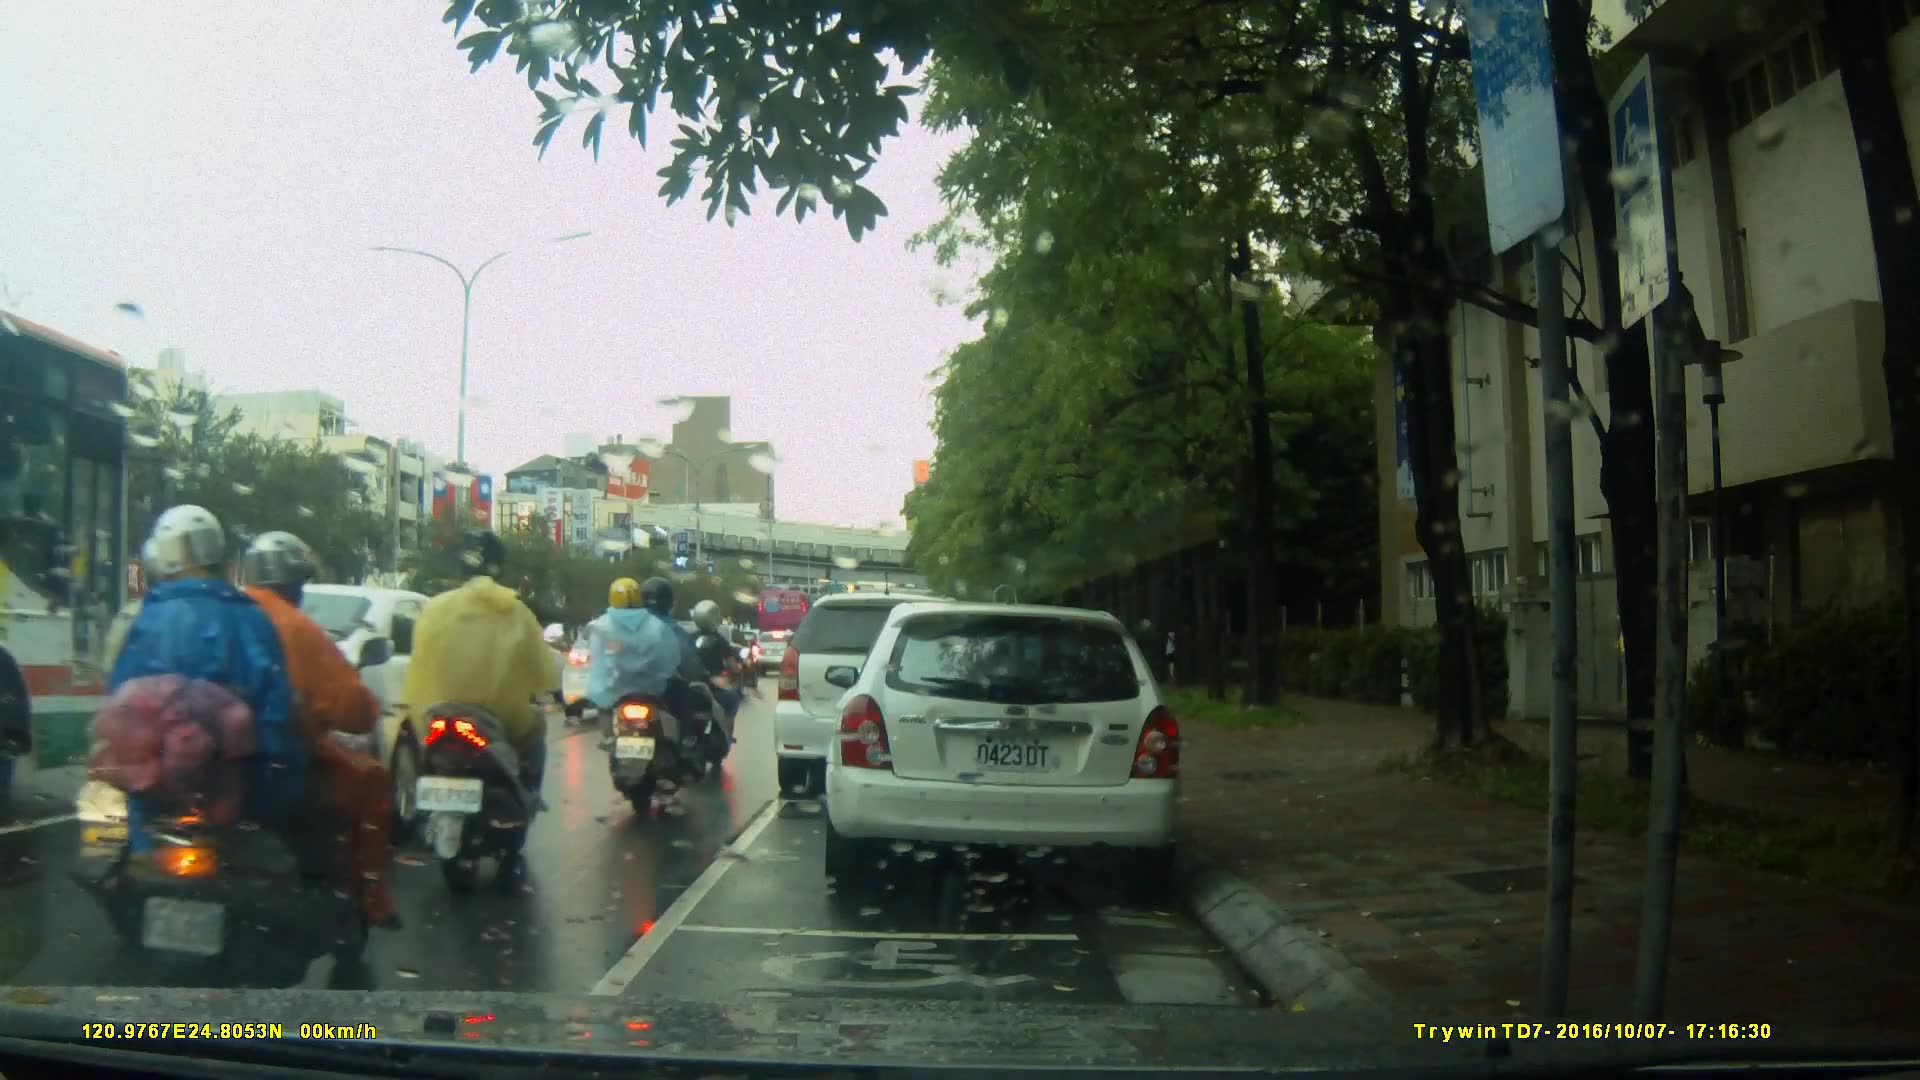rider: (83, 503, 372, 1007), (388, 527, 564, 886), (587, 568, 700, 807), (651, 597, 738, 792)
vehicle: (835, 594, 1194, 898), (101, 581, 506, 826), (1, 302, 146, 827), (776, 590, 1026, 784)
